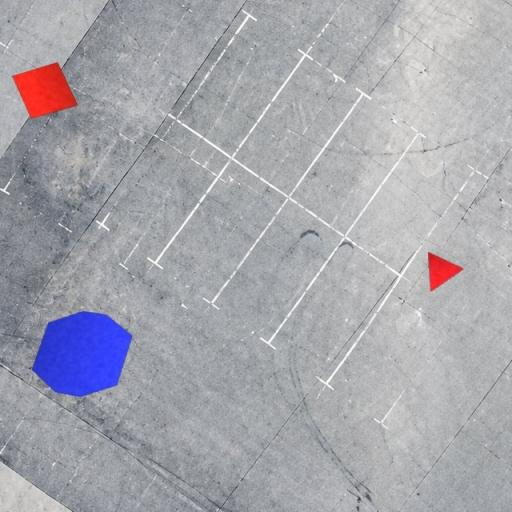RED_SQUARE: (12, 62, 78, 119)
